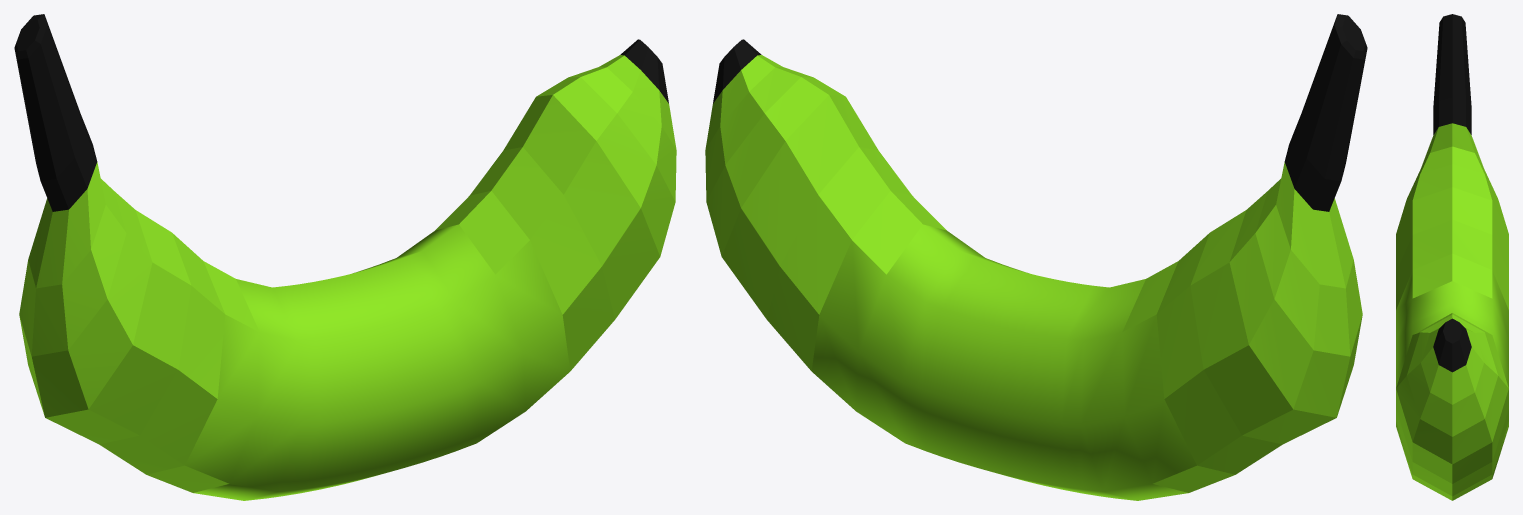
The model's file is banana.fbx.
The picture shows the model from 3 angles, left to right: view 1: azimuth 30°, elevation 25°; view 2: azimuth 150°, elevation 25°; view 3: azimuth 270°, elevation 25°; orthographic projection. The views are drawn at different scales.
Parts seen in each view (by area): view 1: Cylinder001, Object001; view 2: Cylinder001, Object001; view 3: Cylinder001, Object001.
Part boxes in pixels (left/top/right/bottom): Cylinder001: left=19, top=55, right=676, bottom=500; Object001: left=14, top=14, right=668, bottom=211; Cylinder001: left=705, top=55, right=1362, bottom=500; Object001: left=713, top=14, right=1367, bottom=211; Cylinder001: left=1396, top=123, right=1508, bottom=500; Object001: left=1433, top=14, right=1471, bottom=372.
Size of the model in its own units: 0.8766 by 0.699 by 0.1994.
